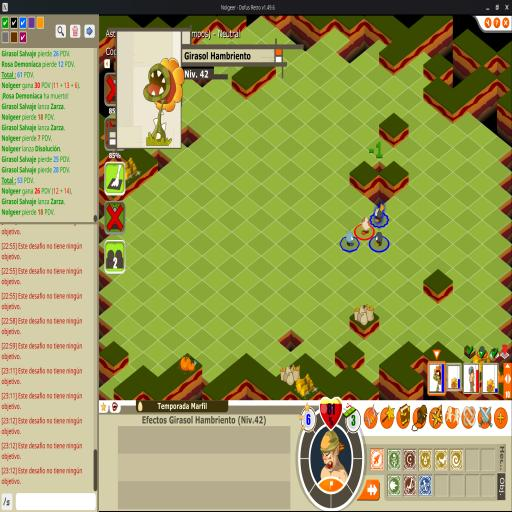Enemigos: (370, 202, 386, 224), (345, 228, 355, 248), (374, 230, 384, 248)
Personaje: (360, 216, 372, 236)
